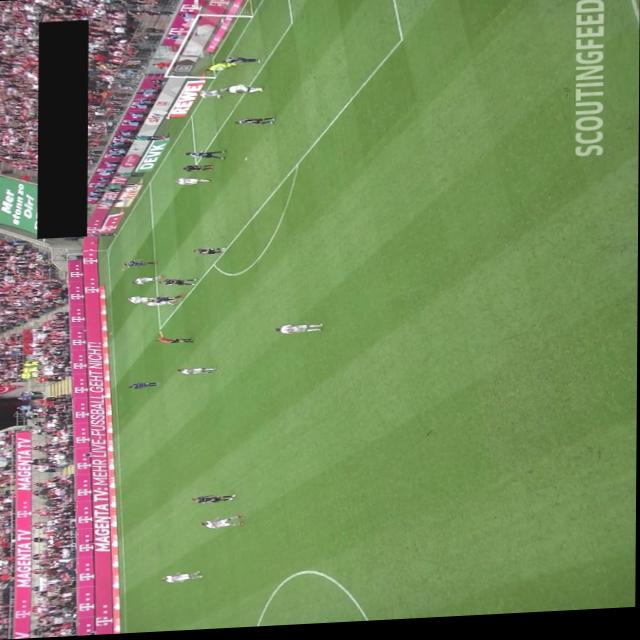goalkeeper: (205, 63, 236, 73)
player: (202, 515, 246, 531), (274, 324, 324, 337), (162, 571, 204, 585), (191, 495, 237, 506), (185, 151, 228, 162), (221, 85, 263, 96), (174, 177, 212, 187), (197, 90, 230, 101), (235, 119, 275, 128), (159, 279, 198, 288), (123, 259, 158, 269), (222, 58, 260, 67), (132, 276, 164, 286), (178, 368, 218, 376), (192, 248, 227, 257), (151, 295, 185, 304), (126, 296, 157, 305), (182, 165, 213, 174), (129, 382, 161, 390), (143, 300, 177, 307)
referee: (155, 330, 194, 346)
